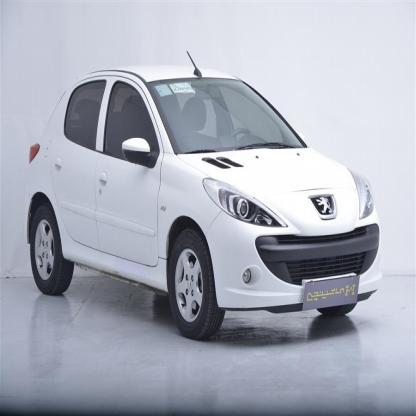Car: (21, 58, 380, 343)
